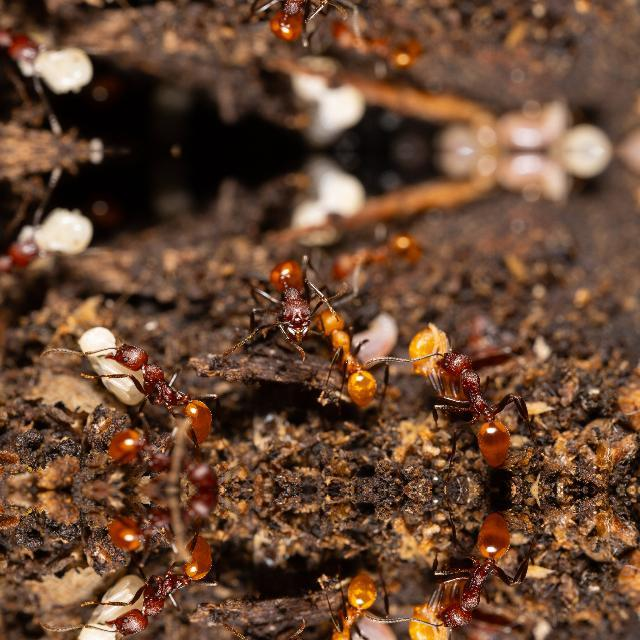Apheanogaster: (396, 332, 542, 466), (394, 512, 542, 640), (85, 329, 232, 427), (84, 552, 230, 640), (237, 250, 353, 350), (92, 424, 245, 488), (92, 491, 245, 555), (310, 302, 382, 403), (237, 0, 353, 50), (308, 574, 382, 640), (328, 231, 412, 281), (328, 19, 412, 69), (0, 232, 38, 282), (0, 18, 38, 68)
